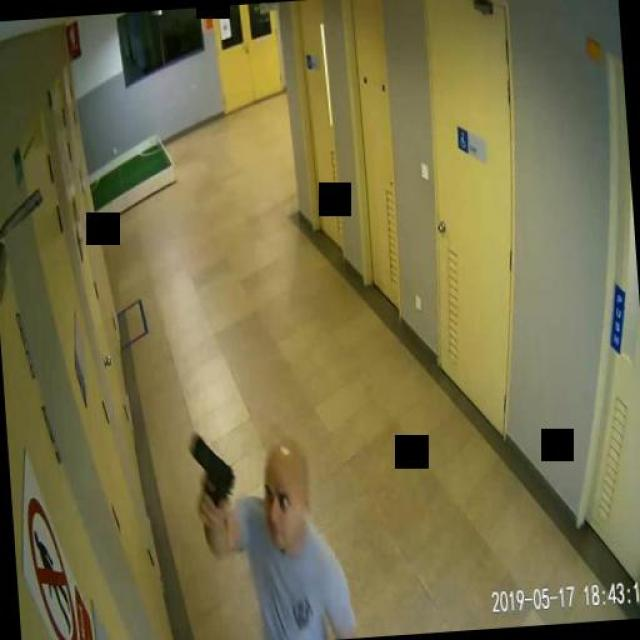gun: (187, 430, 235, 515)
